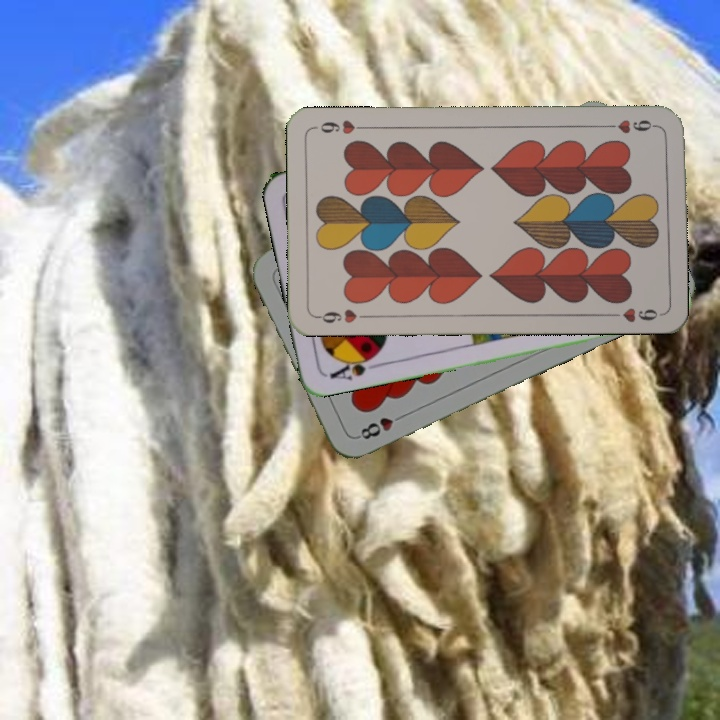H8: (353, 409, 408, 442)
H9: (312, 305, 371, 326), (601, 115, 660, 136)
SA: (325, 350, 380, 383)
